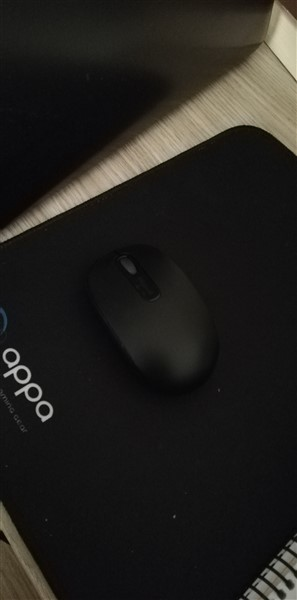mouse: (75, 237, 234, 401)
